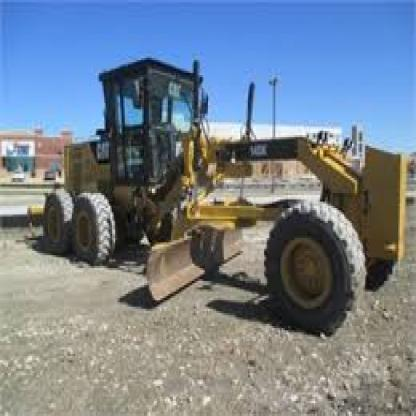bull_dozer/loader/grader: (32, 45, 406, 339)
